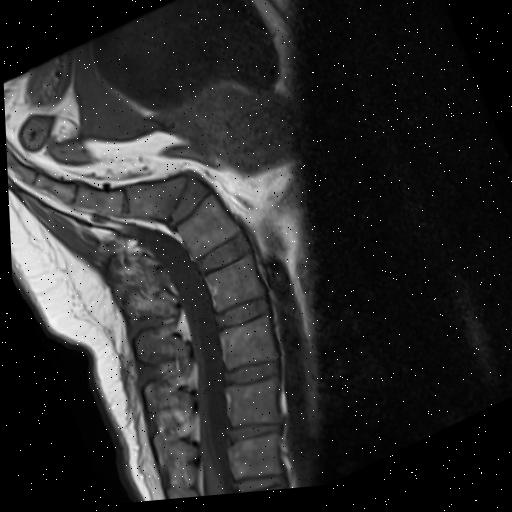L1: (222, 436, 275, 483)
L2: (221, 380, 276, 431)
L3: (214, 318, 273, 374)
L4: (200, 258, 259, 315)
L5: (172, 198, 236, 262)
S1: (118, 179, 182, 227)
